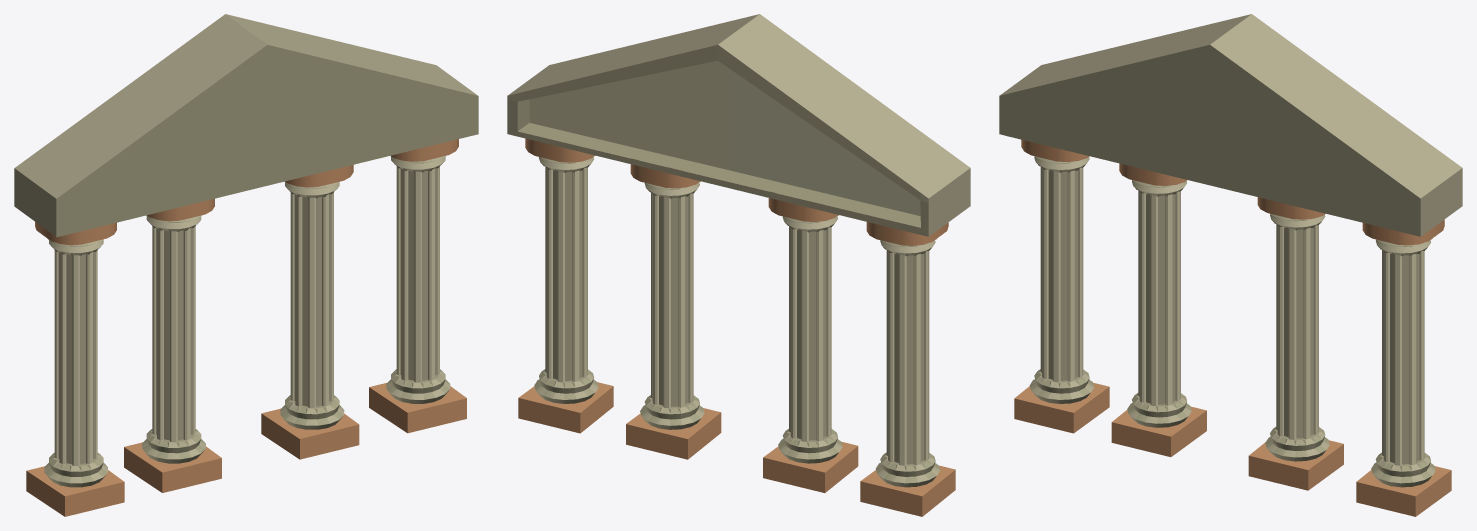
The model's file is PILONE.fbx.
3 views of the same model, side by side, from view 1: azimuth 30°, elevation 25°; view 2: azimuth 150°, elevation 25°; view 3: azimuth 330°, elevation 25° (orthographic).
Visible parts, largest first — view 1: arche; view 2: arche; view 3: arche.
Part boxes in pixels (<box>): arche: <box>14,14,478,516</box>; arche: <box>507,14,970,516</box>; arche: <box>999,14,1462,516</box>.
Size of the model in its own units: 2219 by 2141 by 386.
